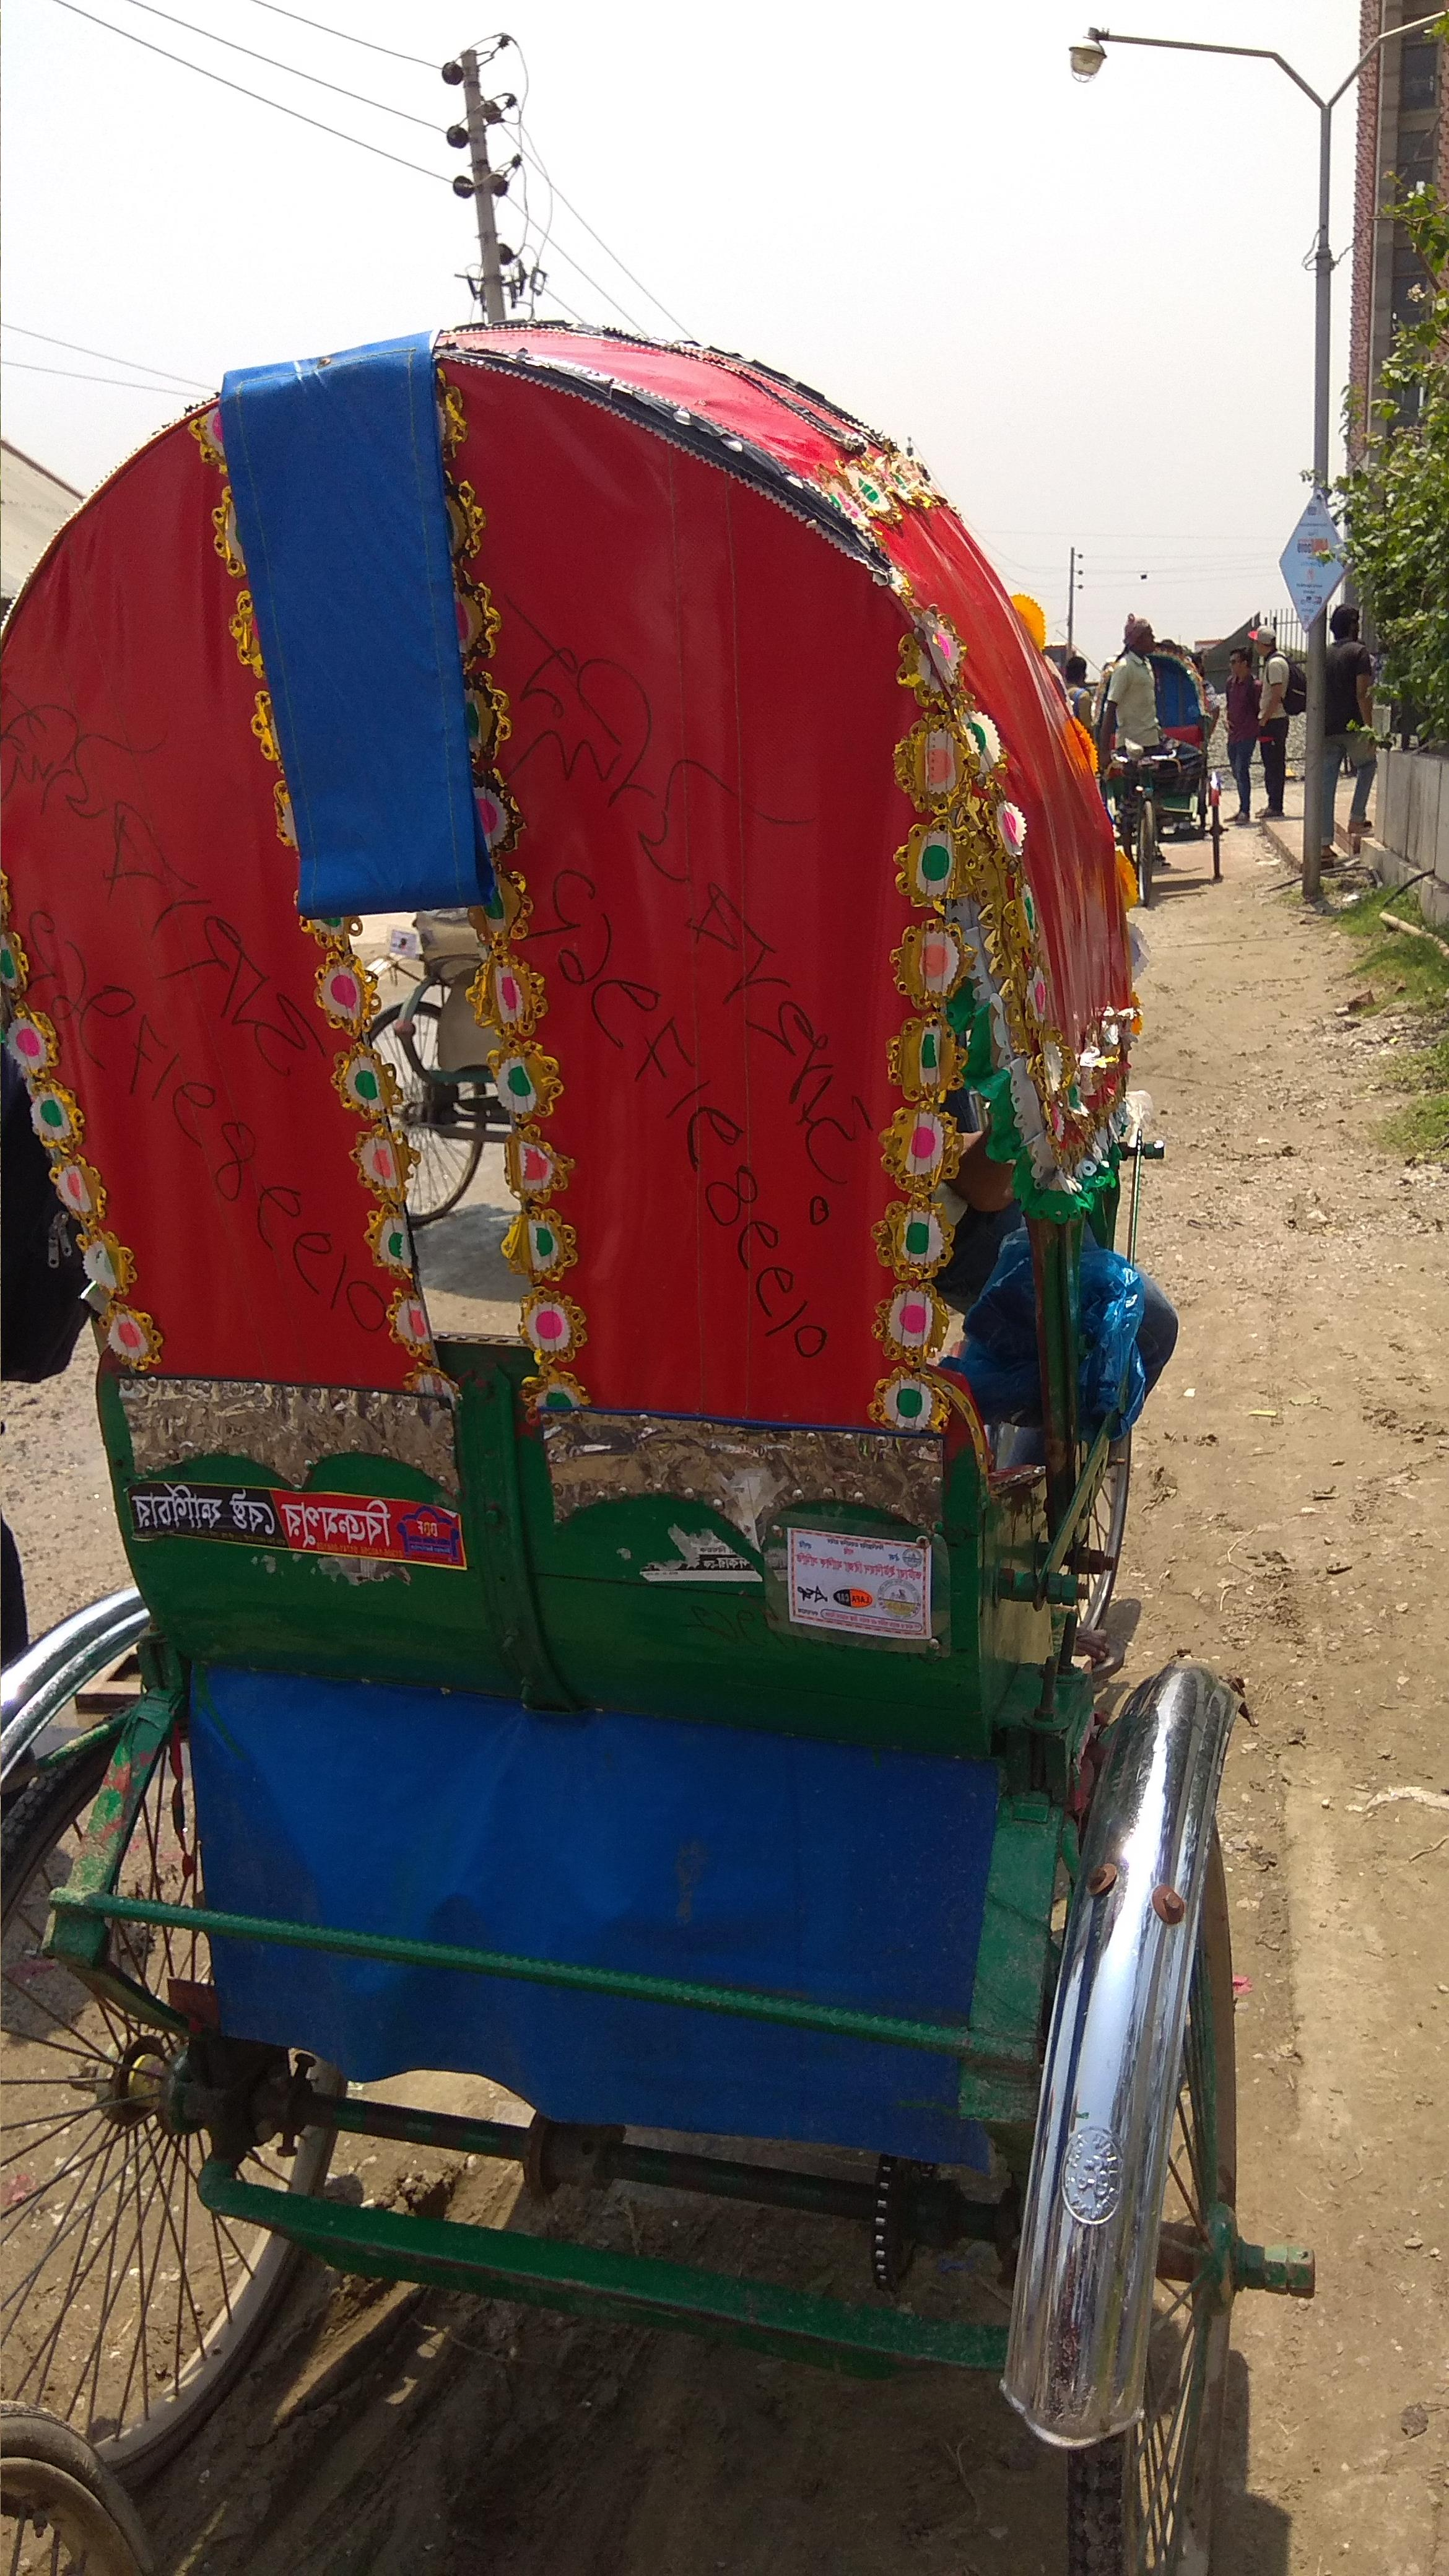Rickshaw: (12, 356, 1242, 2574)
